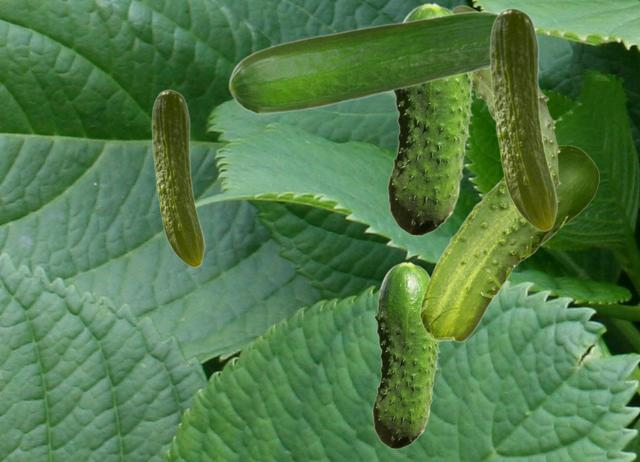cucumber: (419, 145, 598, 341), (228, 10, 500, 114), (387, 2, 473, 235), (452, 5, 560, 188), (489, 7, 557, 231), (372, 261, 440, 448), (151, 89, 204, 267)
